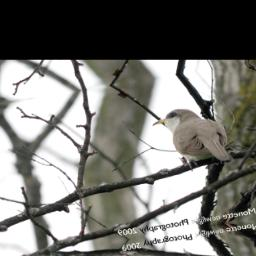Cuckoo: (150, 101, 237, 175)
